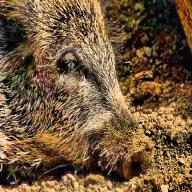boar: (1, 0, 164, 192)
